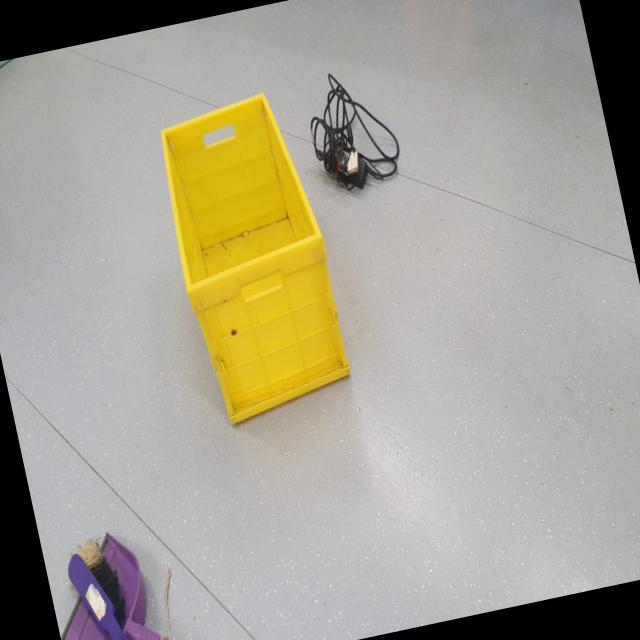box: (119, 64, 368, 443)
